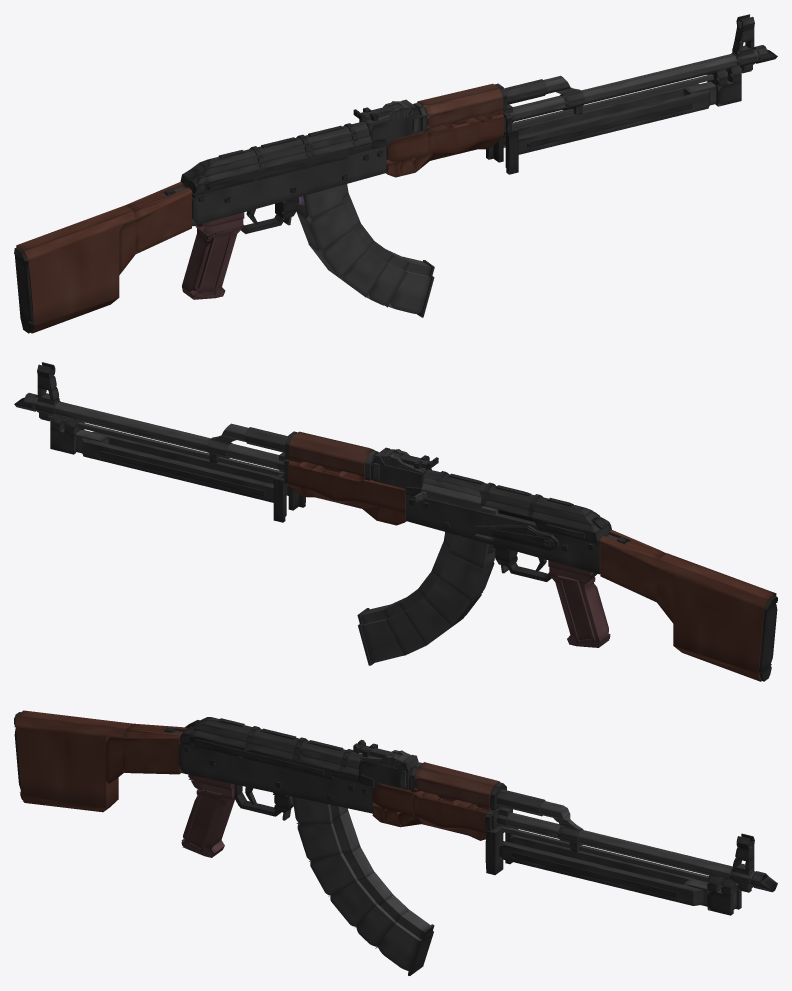
The model's file is rpk.obj.
3 views of the same model, one above another, from view 1: azimuth 30°, elevation 25°; view 2: azimuth 150°, elevation 25°; view 3: azimuth 330°, elevation 25° (orthographic).
Visible parts, largest first — view 1: gunModel1, gunModel0, gunModel172, gunModel2, gunModel185, gunModel89, gunModel171, ammoModel1, ammoModel2, gunModel15, gunModel114, gunModel54 (+20 smaller); view 2: gunModel1, gunModel0, gunModel171, gunModel2, gunModel185, gunModel89, gunModel172, ammoModel1, ammoModel2, gunModel15, gunModel114, ammoModel13 (+19 smaller); view 3: gunModel1, gunModel0, gunModel172, gunModel185, gunModel2, gunModel89, gunModel171, gunModel15, gunModel114, ammoModel1, ammoModel2, ammoModel3 (+29 smaller).
Boxes of the visible parts, x1,y1,x2,y2 form: gunModel1: (23,226,119,325); gunModel0: (183,146,386,226); gunModel172: (518,89,710,154); gunModel2: (16,205,135,260); gunModel185: (135,186,191,253); gunModel89: (502,48,759,114); gunModel171: (503,83,699,147); ammoModel1: (296,204,352,252); ammoModel2: (308,230,368,278); gunModel15: (417,83,502,115); gunModel114: (512,68,741,127); gunModel54: (200,121,368,168); gunModel1: (673,574,764,673); gunModel0: (405,494,609,574); gunModel171: (81,437,273,502); gunModel2: (657,553,776,608); gunModel185: (600,534,656,602); gunModel89: (33,397,278,462); gunModel172: (92,431,288,495); ammoModel1: (439,552,494,600); ammoModel2: (423,578,481,626); gunModel15: (289,431,375,463); gunModel114: (50,416,284,475); ammoModel13: (361,619,404,663); gunModel1: (16,727,118,808); gunModel0: (178,742,374,813); gunModel172: (499,841,703,905); gunModel185: (123,738,181,774); gunModel2: (15,710,132,738); gunModel89: (507,812,755,879); gunModel171: (510,834,707,884); gunModel15: (414,762,500,795); gunModel114: (501,826,739,889); ammoModel1: (297,823,342,861); ammoModel2: (310,853,357,896); ammoModel3: (330,880,377,927).
Bounding box in the file's own units: 32.17 × 8.75 × 1.95.
